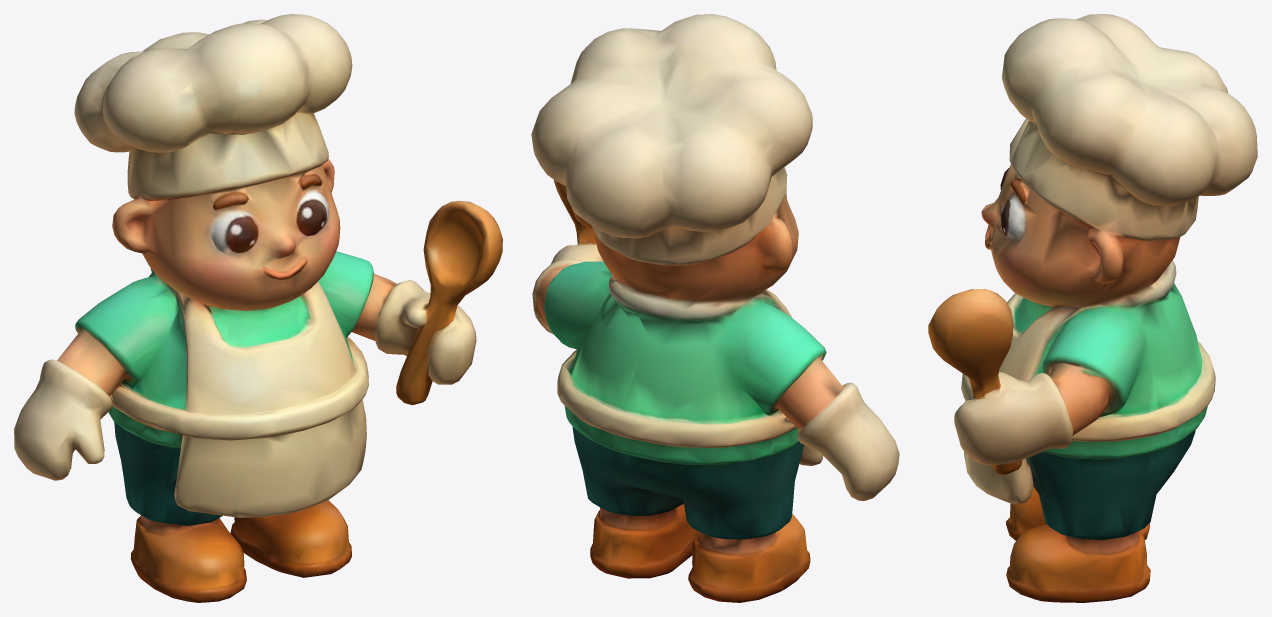
Rendered from char-cook.glb.
The picture shows the model from 3 angles, left to right: view 1: azimuth 30°, elevation 25°; view 2: azimuth 150°, elevation 25°; view 3: azimuth 270°, elevation 25°; orthographic projection.
Parts seen in each view (by area): view 1: tripo_node_3e217b26-d1c8-474e-ae13-ef1465472f80; view 2: tripo_node_3e217b26-d1c8-474e-ae13-ef1465472f80; view 3: tripo_node_3e217b26-d1c8-474e-ae13-ef1465472f80.
Part boxes in pixels (x1,y1,x2,y2): tripo_node_3e217b26-d1c8-474e-ae13-ef1465472f80: (14, 14, 502, 602); tripo_node_3e217b26-d1c8-474e-ae13-ef1465472f80: (531, 14, 899, 602); tripo_node_3e217b26-d1c8-474e-ae13-ef1465472f80: (928, 14, 1257, 602).
Bounding box in the file's own units: 0.7795 × 0.9999 × 0.5597.
1 material, 1 textured.
